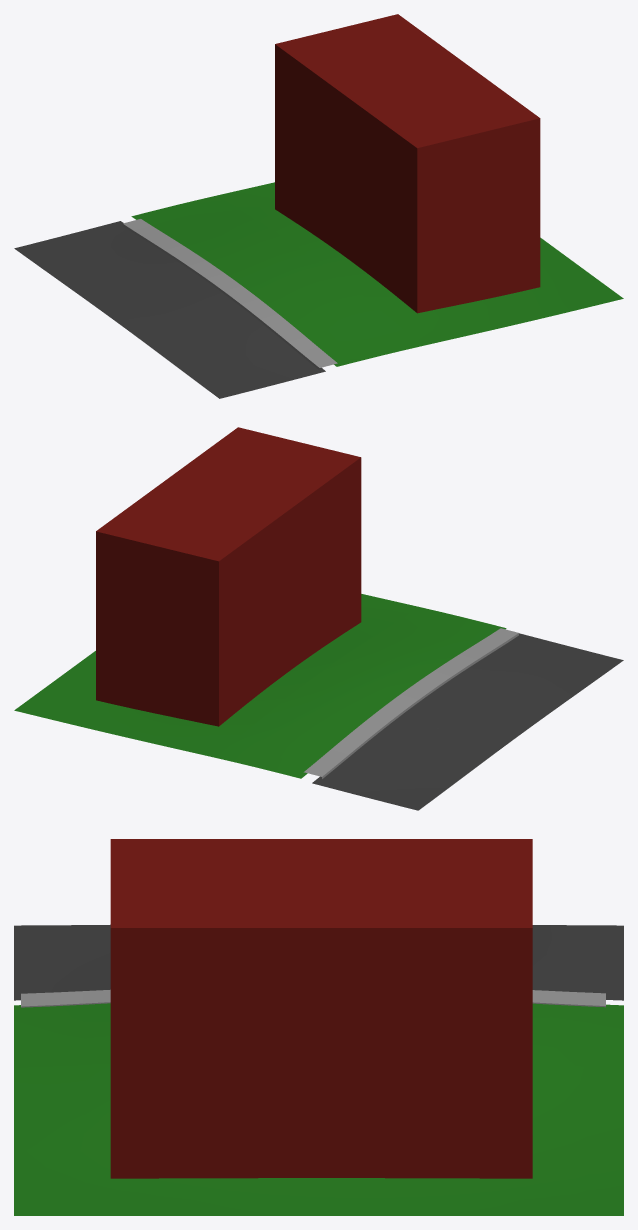
The model's file is demo.gltf.
3 views of the same model, one above another, from view 1: azimuth 30°, elevation 25°; view 2: azimuth 150°, elevation 25°; view 3: azimuth 270°, elevation 25° (orthographic). The views are drawn at different scales.
Parts seen in each view (by area): view 1: Building, Road, GrassAllowed, GrassForbidden, Sidewalk; view 2: Building, Road, GrassAllowed, GrassForbidden, Sidewalk; view 3: Building, GrassForbidden, Road, GrassAllowed, Sidewalk.
Boxes of the visible parts, x1,y1,x2,y2 form: Building: (275, 14, 540, 313); Road: (14, 221, 325, 398); GrassAllowed: (131, 195, 422, 366); GrassForbidden: (218, 182, 623, 345); Sidewalk: (122, 219, 337, 369); Building: (96, 427, 361, 726); Road: (312, 633, 623, 810); GrassAllowed: (215, 607, 506, 778); GrassForbidden: (14, 594, 419, 757); Sidewalk: (303, 628, 518, 778); Building: (110, 839, 532, 1178); GrassForbidden: (14, 1063, 623, 1215); Road: (14, 924, 623, 1000); GrassAllowed: (14, 1003, 623, 1067); Sidewalk: (21, 989, 605, 1007).
Size of the model in its own units: 41.98 by 17.93 by 36.97.
